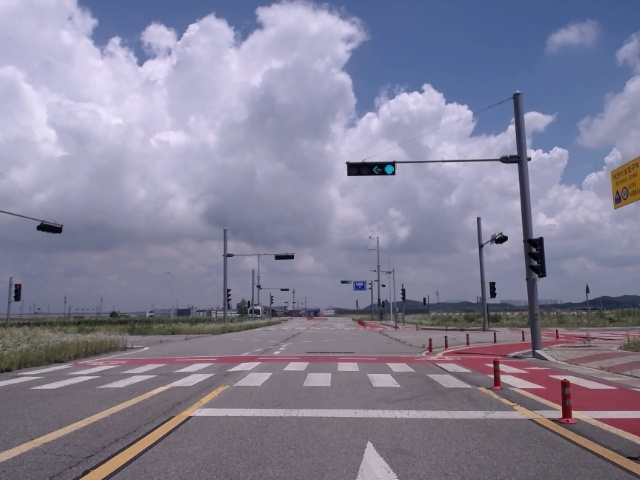all_green_4: (349, 162, 395, 176)
